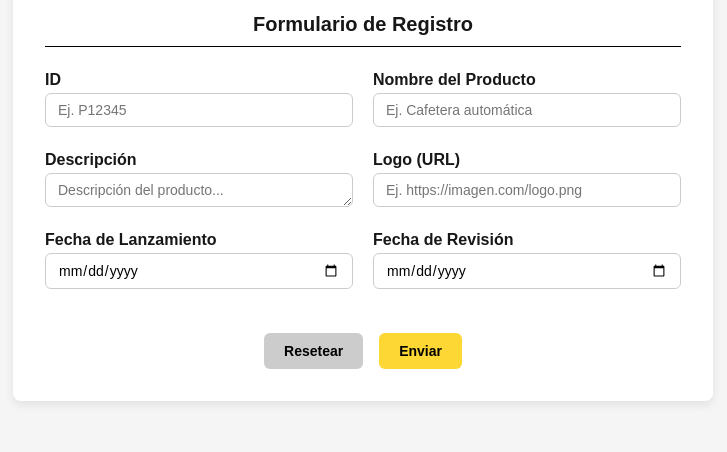
Scenario: ProductForm › muestra error si el ID ya existe en la base de datos (duplicate)
This screenshot has width=727, height=452.
Type "P12345" into the field labelled "ID". click: (199, 110)
box: [45,93,353,127]
Type "Cafetera" into the field labelled "Nombre del Producto". click: (527, 110)
box: [373,93,681,127]
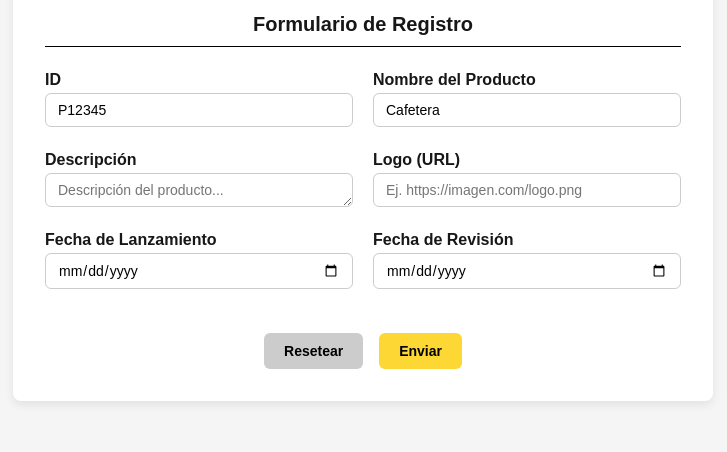
Type "Hace café automático" into the text box labelled "Descripción". click: (199, 190)
box: [45,173,353,207]
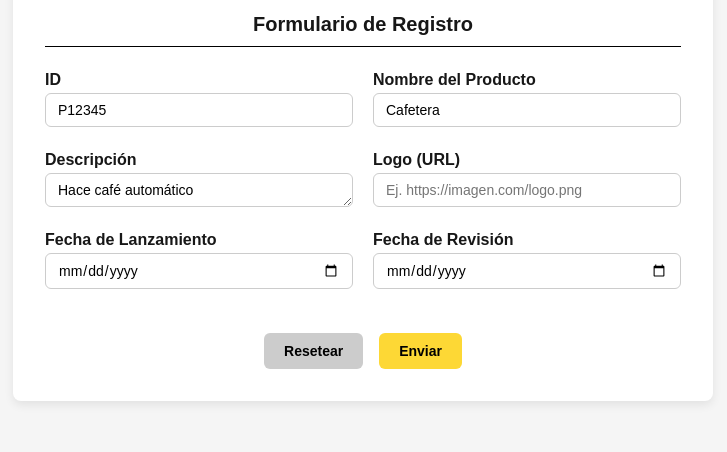
Type "https://img.com/logo.png" into the field labelled "Logo (URL)". click: (527, 190)
box: [373,173,681,207]
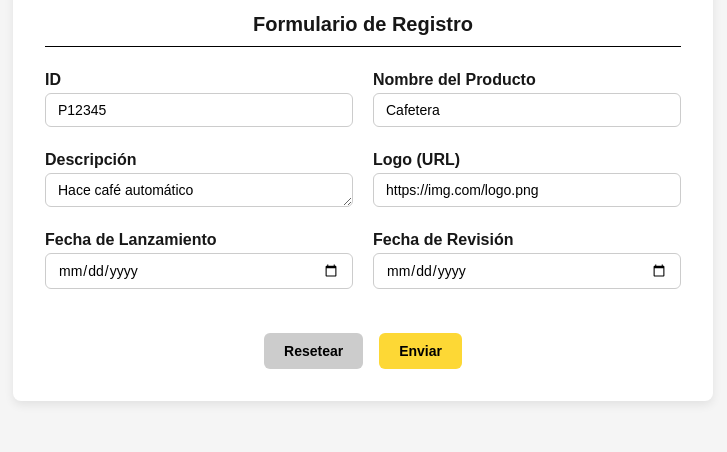
Type "2025-07-30" into the date field labelled "Fecha de Lanzamiento". click: (199, 271)
box: [45,253,353,289]
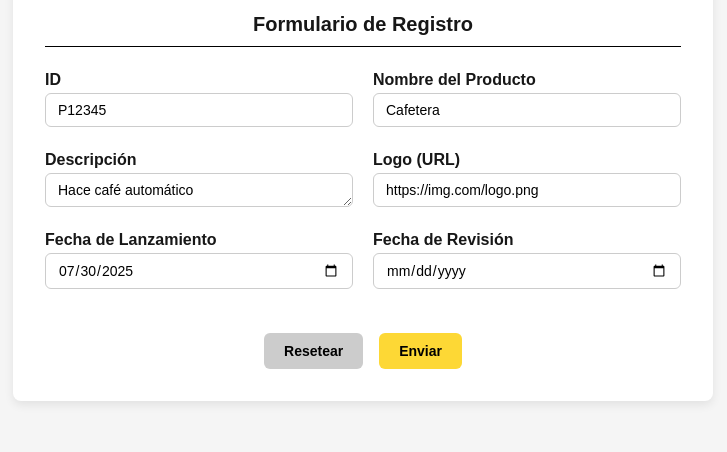
Type "2026-07-30" into the date field labelled "Fecha de Revisión". click: (527, 271)
box: [373,253,681,289]
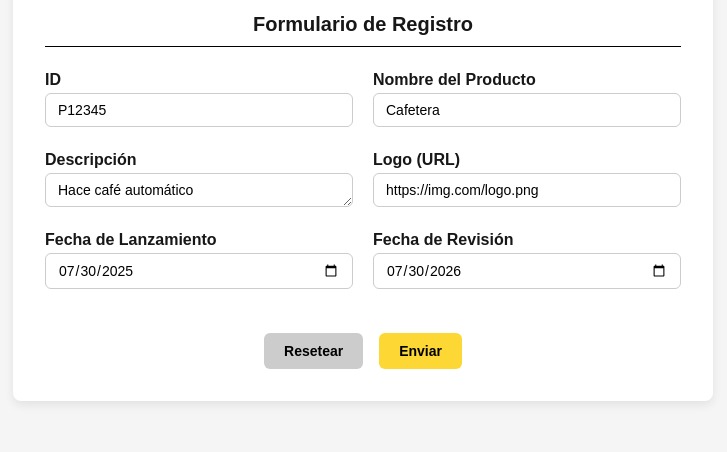
Click the button "Enviar". click: (421, 351)
box: [379,333,462,369]
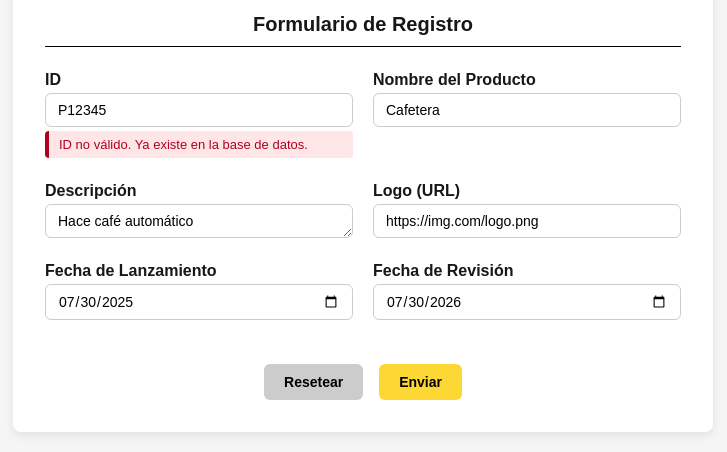
Expected: the text "ID no válido. Ya existe en la base de datos." is shown, [45,131,353,158]
